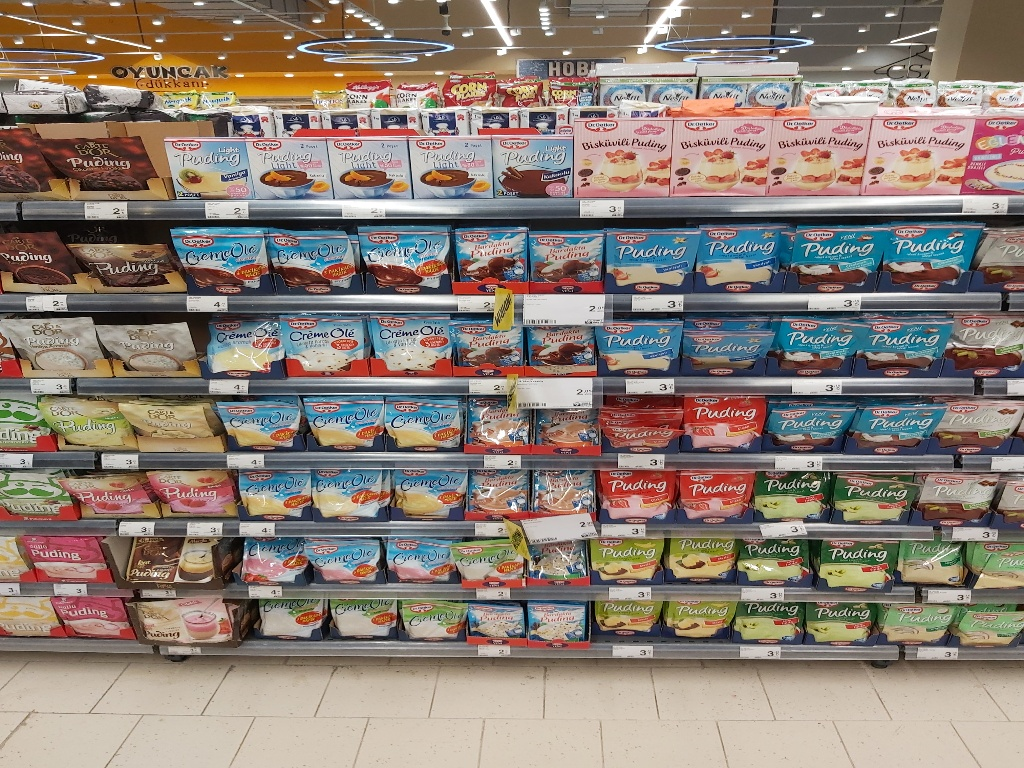urun: (860, 100, 980, 197), (764, 105, 876, 195), (664, 108, 776, 197), (570, 109, 681, 198), (168, 220, 268, 302), (265, 219, 365, 301), (154, 120, 253, 202), (780, 211, 882, 289), (876, 211, 978, 289), (92, 310, 196, 384), (355, 221, 457, 293), (603, 216, 699, 292), (690, 221, 786, 297), (771, 303, 865, 379), (5, 308, 101, 381), (325, 125, 413, 204), (248, 123, 337, 201), (408, 123, 497, 201), (488, 124, 576, 202), (64, 233, 173, 294), (276, 306, 367, 379), (360, 305, 451, 378), (195, 305, 285, 378), (35, 385, 132, 452), (118, 385, 215, 452), (293, 390, 390, 457), (685, 310, 778, 379), (211, 392, 308, 458), (449, 305, 530, 384), (127, 588, 236, 646), (948, 298, 1021, 383), (951, 301, 1024, 385), (379, 393, 472, 457), (934, 393, 1023, 457), (851, 393, 946, 452), (911, 472, 1009, 529), (680, 394, 774, 453), (762, 393, 856, 452), (596, 396, 691, 454), (447, 221, 534, 282), (598, 311, 685, 372), (524, 223, 611, 283), (229, 461, 316, 520), (306, 467, 393, 526), (383, 461, 470, 520), (59, 467, 154, 521), (968, 104, 1024, 195), (826, 471, 922, 524), (143, 460, 238, 513), (518, 312, 602, 371), (594, 466, 680, 522), (671, 471, 756, 527), (808, 541, 899, 591), (890, 536, 977, 588), (750, 467, 832, 522), (302, 530, 388, 582), (223, 529, 308, 581), (463, 393, 535, 453), (530, 394, 602, 454), (458, 465, 534, 520), (526, 467, 602, 522), (246, 591, 328, 641), (389, 594, 471, 644), (383, 534, 465, 584), (452, 531, 534, 581), (20, 531, 102, 580), (321, 588, 403, 637), (883, 598, 963, 648), (47, 589, 129, 637), (806, 596, 878, 646), (663, 541, 739, 585), (664, 596, 740, 640), (741, 541, 817, 585), (737, 596, 813, 640), (591, 593, 667, 636), (594, 534, 669, 577), (462, 591, 526, 640), (525, 595, 589, 644), (525, 538, 589, 586)
urun2: (52, 120, 152, 202)
